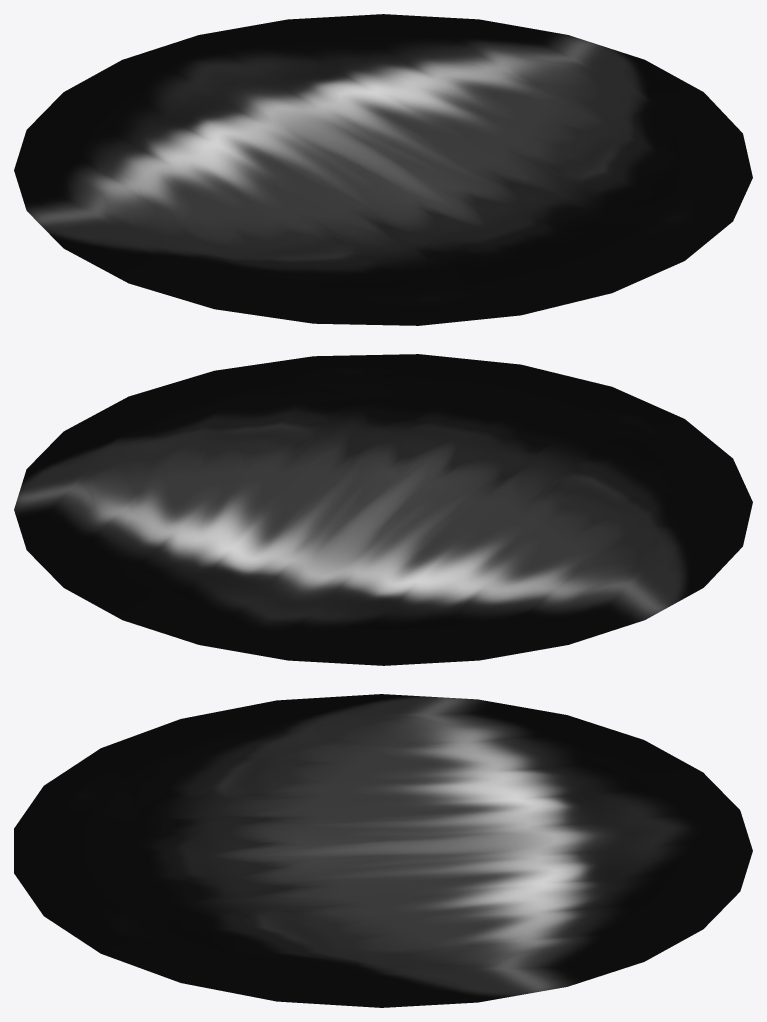
Rendered from Slash01.fbx.
3 renders of one model, top to bottom at view 1: azimuth 30°, elevation 25°; view 2: azimuth 150°, elevation 25°; view 3: azimuth 270°, elevation 25°, orthographic.
Visible parts, largest first — view 1: SlashMesh_Thick; view 2: SlashMesh_Thick; view 3: SlashMesh_Thick.
Part boxes in pixels (x1,y1,x2,y2): SlashMesh_Thick: (14, 14, 752, 325); SlashMesh_Thick: (14, 354, 752, 665); SlashMesh_Thick: (14, 694, 752, 1007).
Size of the model in its own units: 162 by 1.6 by 162.
